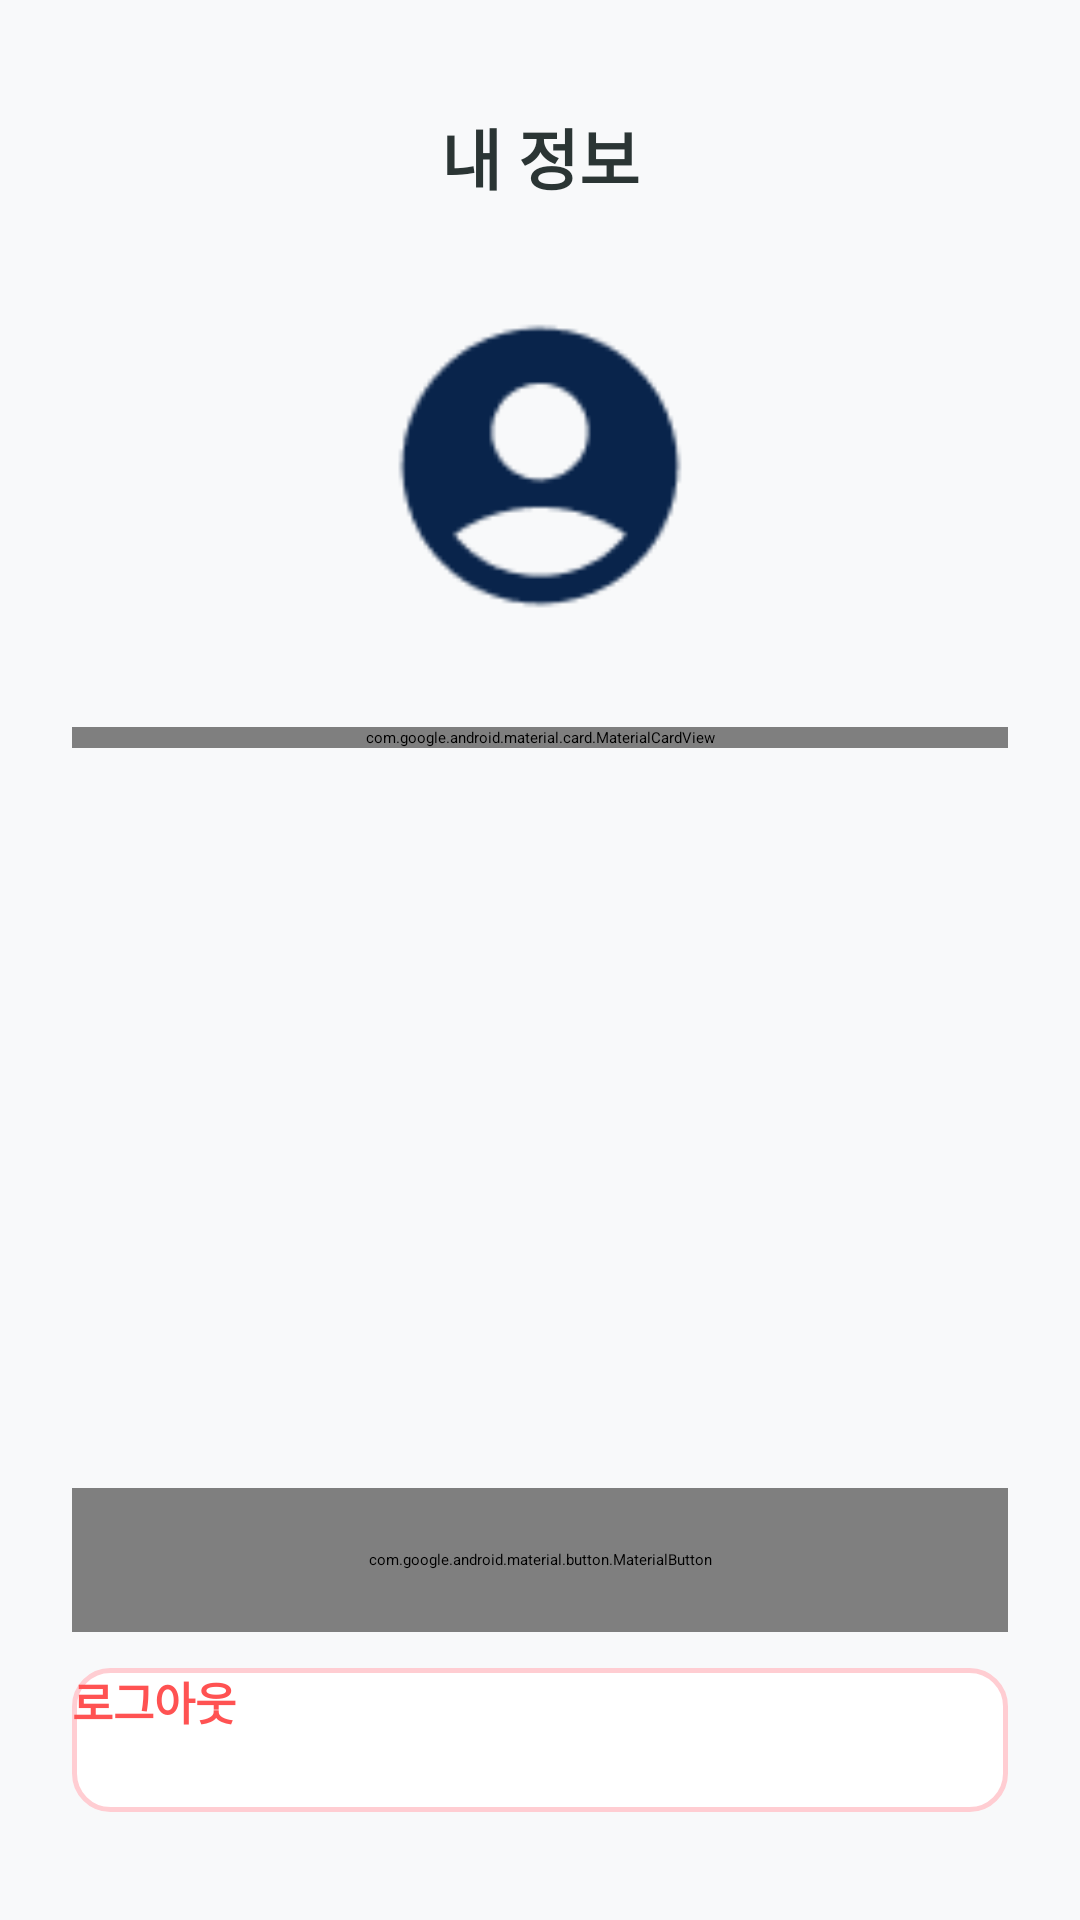

Where icons sit on this 1080×1920 app screen, as (x1, y1, x2, y2):
profile: (399, 325, 681, 607)
